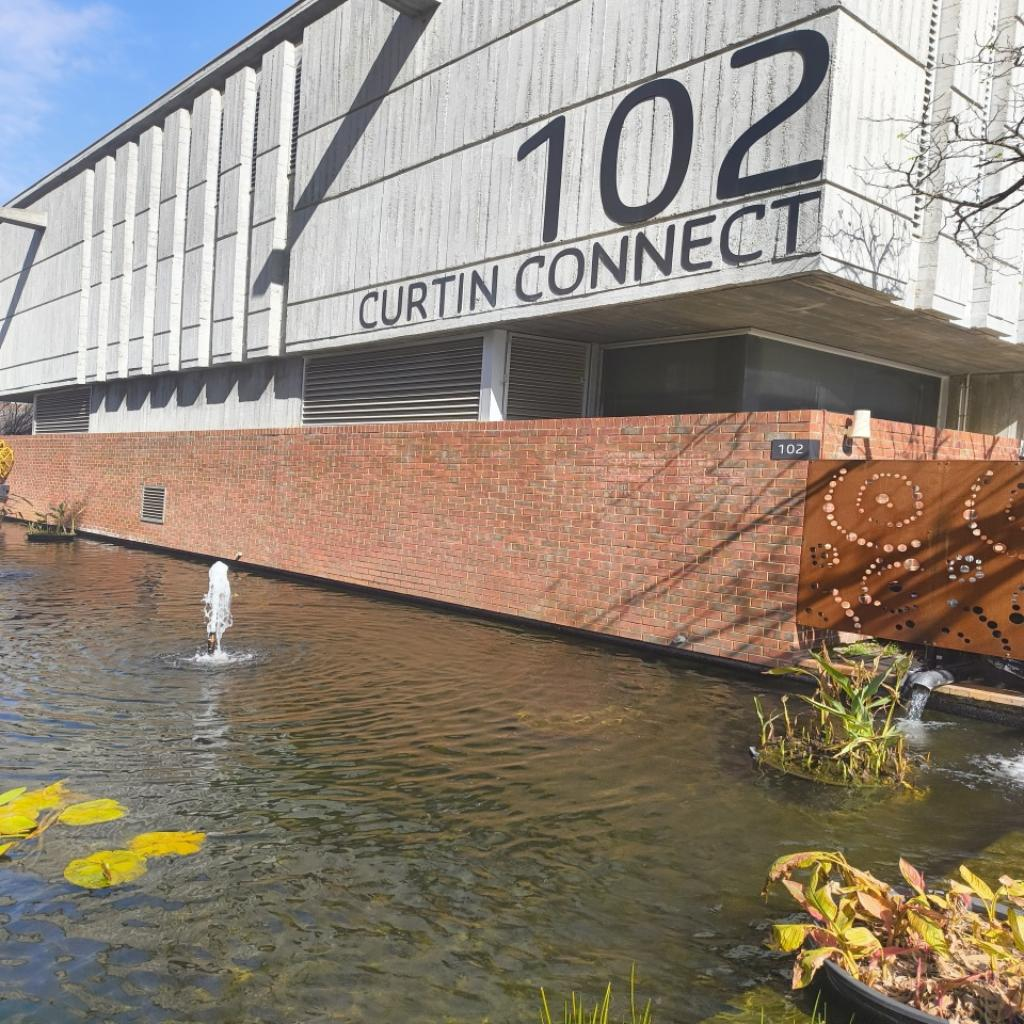BuildingCodes: (506, 20, 836, 256)
